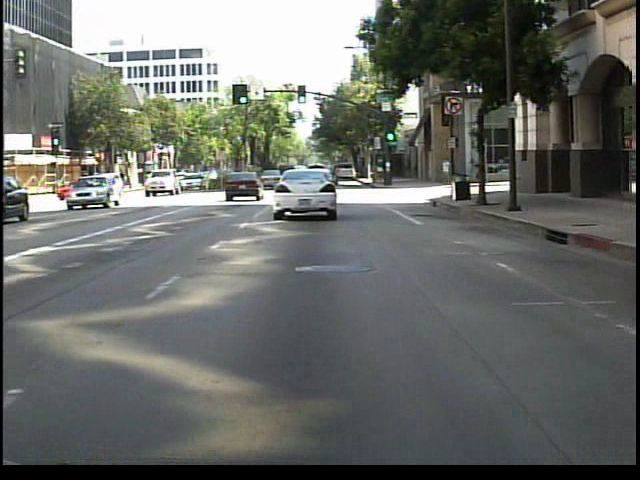person: (439, 149, 454, 189)
